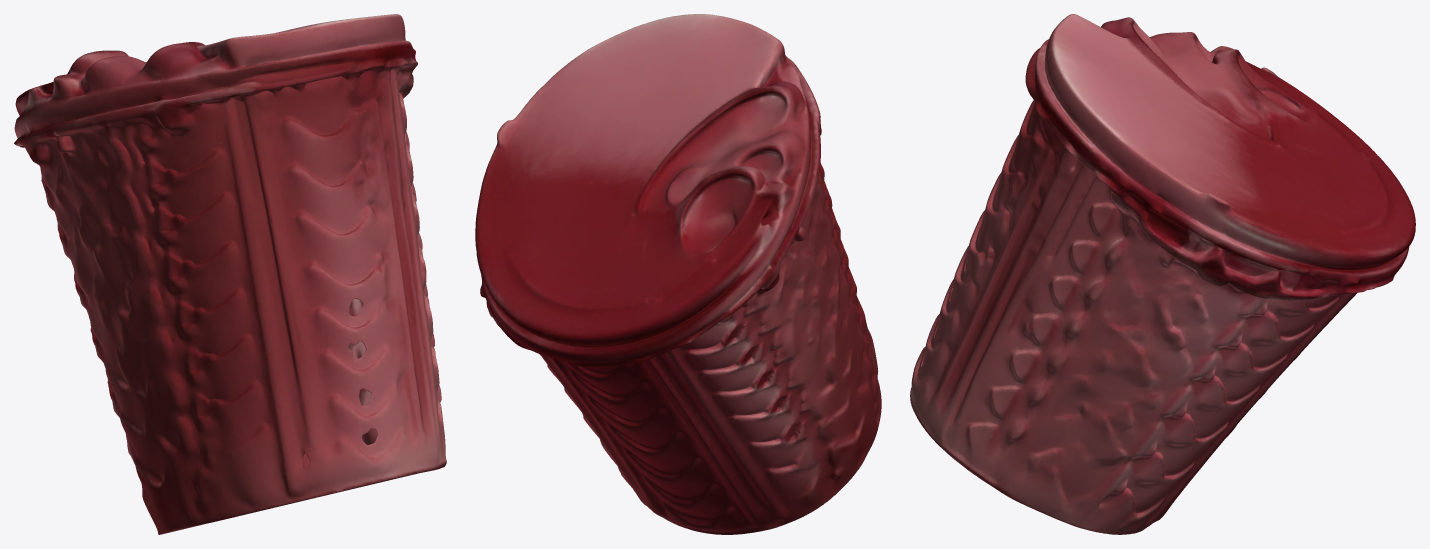
The model's file is pixal3d.glb.
3 views of the same model, side by side, from view 1: azimuth 30°, elevation 25°; view 2: azimuth 150°, elevation 25°; view 3: azimuth 270°, elevation 25° (orthographic). The views are drawn at different scales.
Visible parts, largest first — view 1: world; view 2: world; view 3: world.
Part boxes in pixels (box(x1,y1,x2,y2)): world: box(14, 14, 446, 534); world: box(475, 14, 881, 534); world: box(910, 14, 1415, 534).
Size of the model in its own units: 0.6202 by 0.9356 by 0.8957.
Materials: 1 (1 with a texture image).
